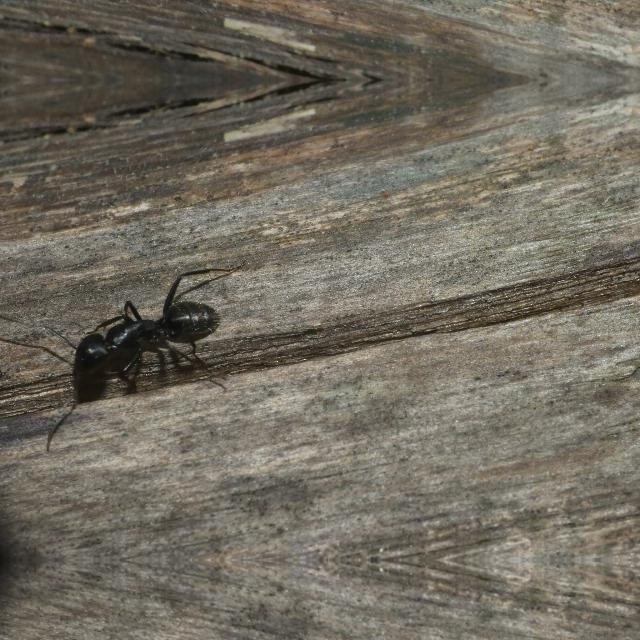Camponotus: (29, 266, 247, 418)
